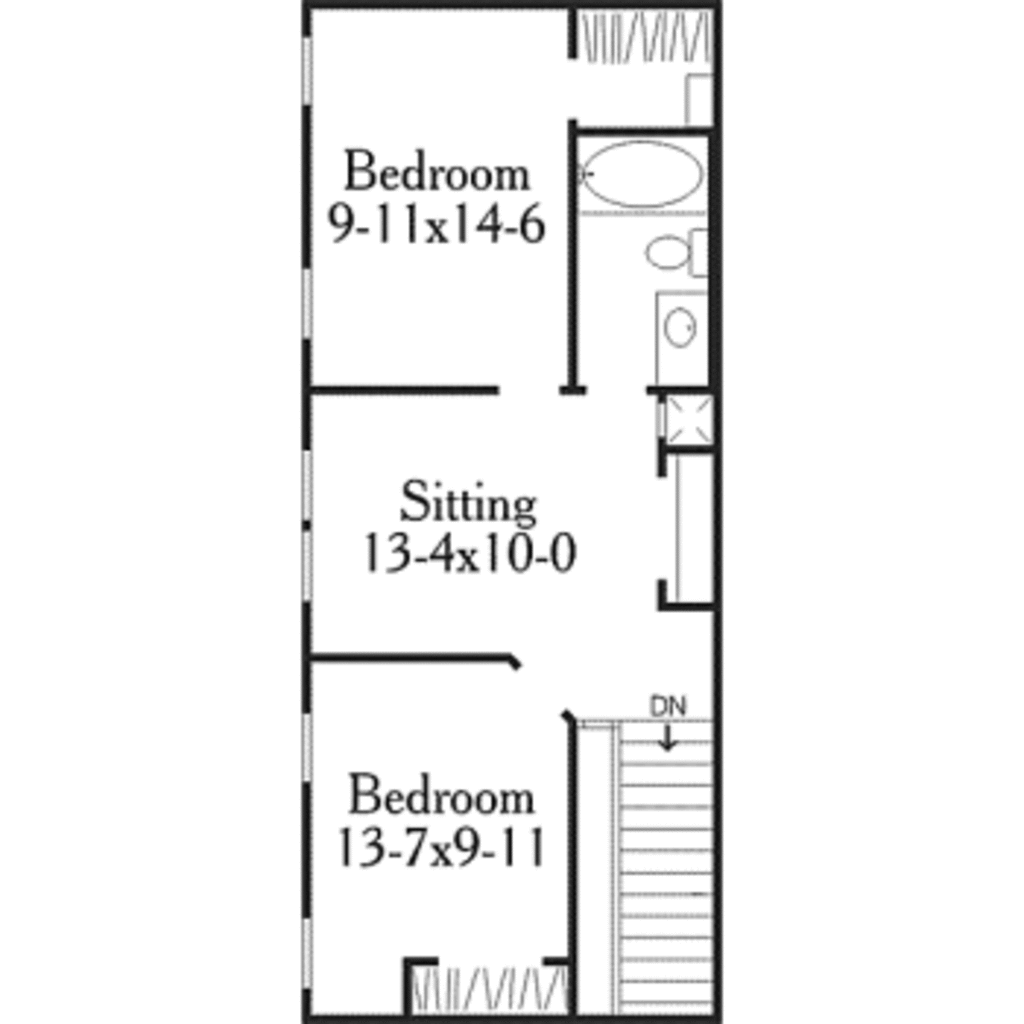large_sink: (629, 216, 723, 283)
small_sink: (647, 291, 715, 395)
stairs: (550, 700, 731, 1019)
tub: (563, 129, 720, 216)
window: (285, 24, 331, 111), (299, 446, 321, 603), (293, 700, 320, 786), (299, 916, 321, 984), (299, 259, 313, 340)
